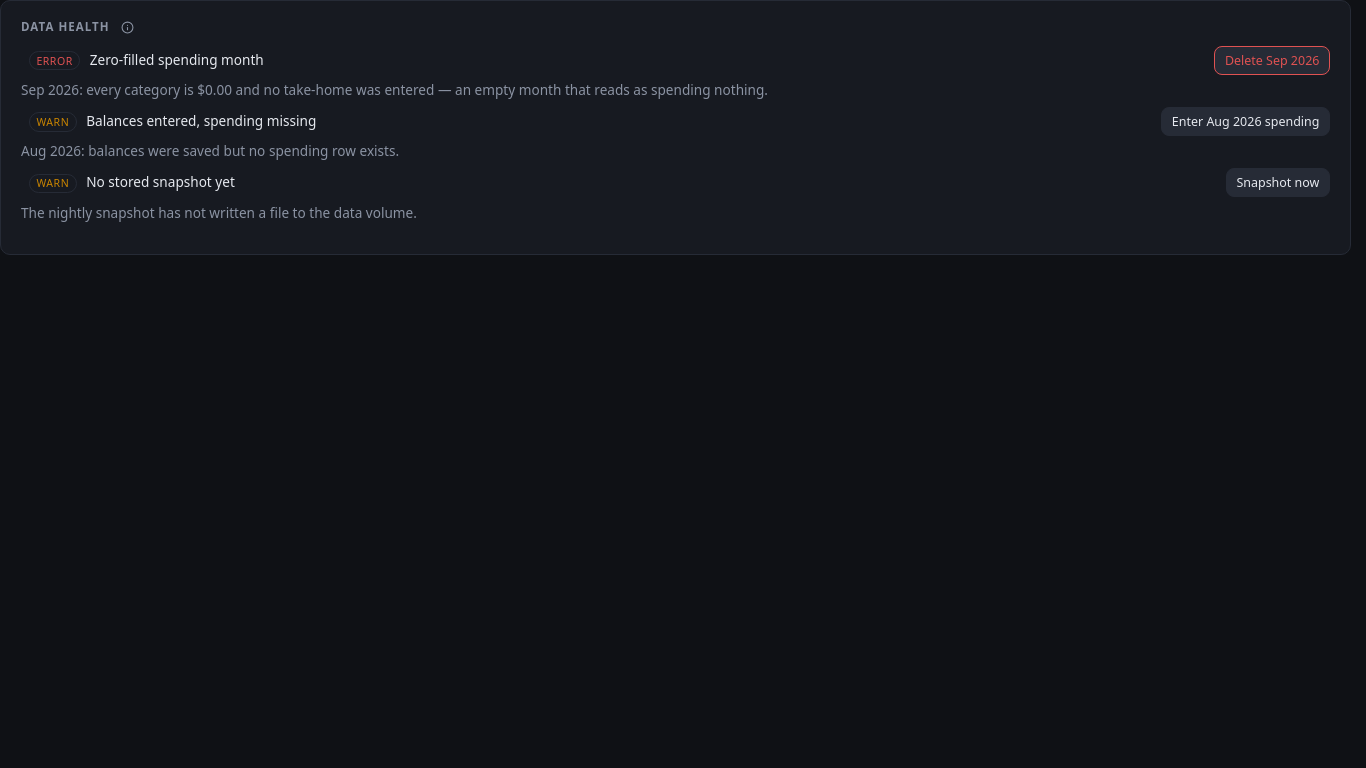
Test: HealthCard › Snapshot now runs the snapshot action and refetches
This screenshot has width=1366, height=768.
Click the button "Snapshot now": (1278, 183) [1226, 168, 1330, 197]
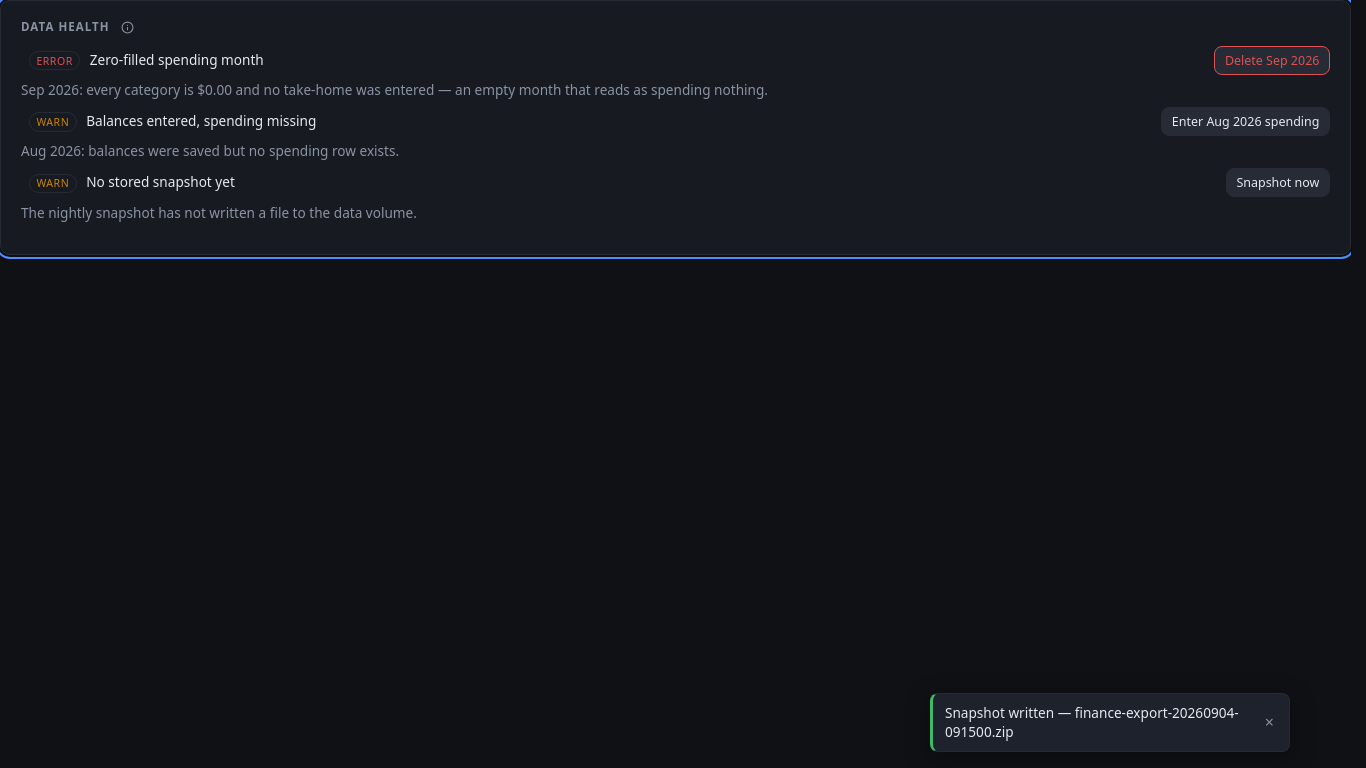
Expected: the text "Snapshot written — finance-export-20260904-091500.zip" is shown, [945, 703, 1252, 741]
